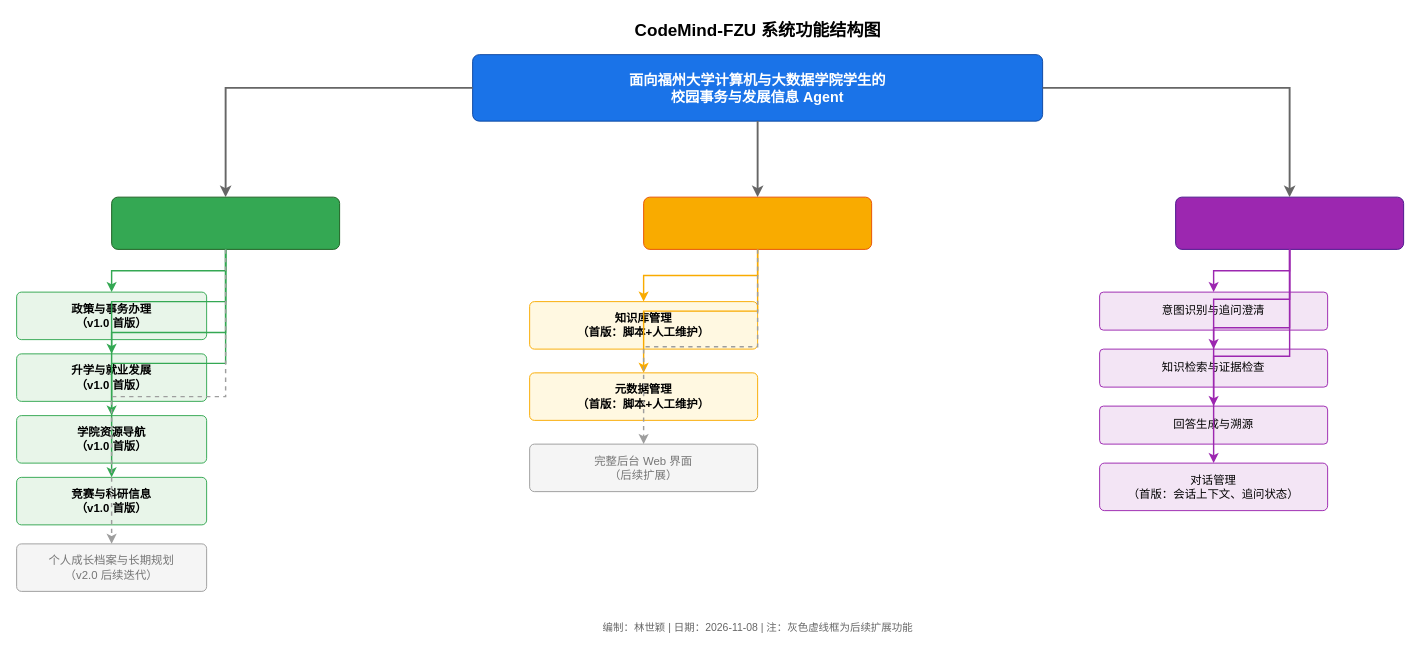
This 1420x655 diagram has some shape labels left out. Each missing label, with the centre of its shape:
"Agent 核心服务" belongs at point (1289, 222).
"后台管理端" belongs at point (757, 222).
"学生端服务" belongs at point (225, 222).
